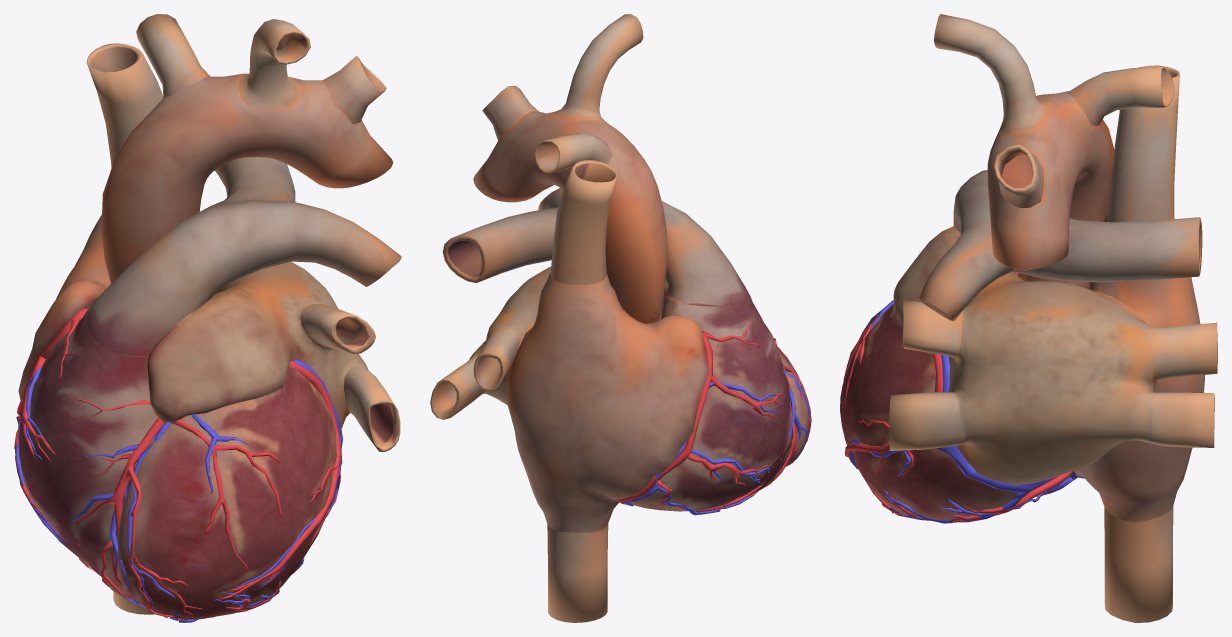
The model's file is jantung.glb.
3 renders of one model, left to right at view 1: azimuth 30°, elevation 25°; view 2: azimuth 150°, elevation 25°; view 3: azimuth 270°, elevation 25°, orthographic. The views are drawn at different scales.
Parts seen in each view (by area): view 1: JANTUNG; view 2: JANTUNG; view 3: JANTUNG.
Boxes of the visible parts, x1=… form: JANTUNG: x1=14, y1=14, x2=401, y2=622; JANTUNG: x1=430, y1=14, x2=811, y2=622; JANTUNG: x1=840, y1=14, x2=1217, y2=622.
Bounding box in the file's own units: 6.52 × 11.06 × 6.21.
1 material, 1 textured.
